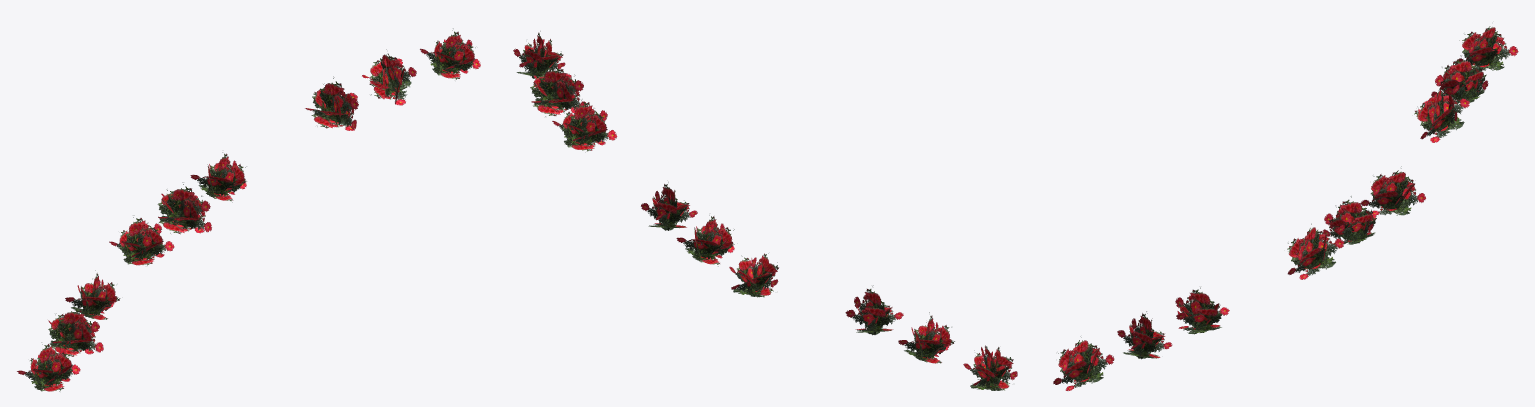
File: Flowers_Right_Far_COMBO.fbx
3 renders of one model, left to right at view 1: azimuth 90°, elevation 25°; view 2: azimuth 150°, elevation 25°; view 3: azimuth 270°, elevation 25°, orthographic. The views are drawn at different scales.
Parts seen in each view (by area): view 1: Sun_0017_Low_level_Planting; view 2: Sun_0017_Low_level_Planting; view 3: Sun_0017_Low_level_Planting.
Part boxes in pixels (x1,y1,x2,y2): Sun_0017_Low_level_Planting: (17,28,480,391); Sun_0017_Low_level_Planting: (513,31,1017,390); Sun_0017_Low_level_Planting: (1053,26,1518,390).
Bounding box in the file's own units: 26.5 × 2.59 × 15.45.
